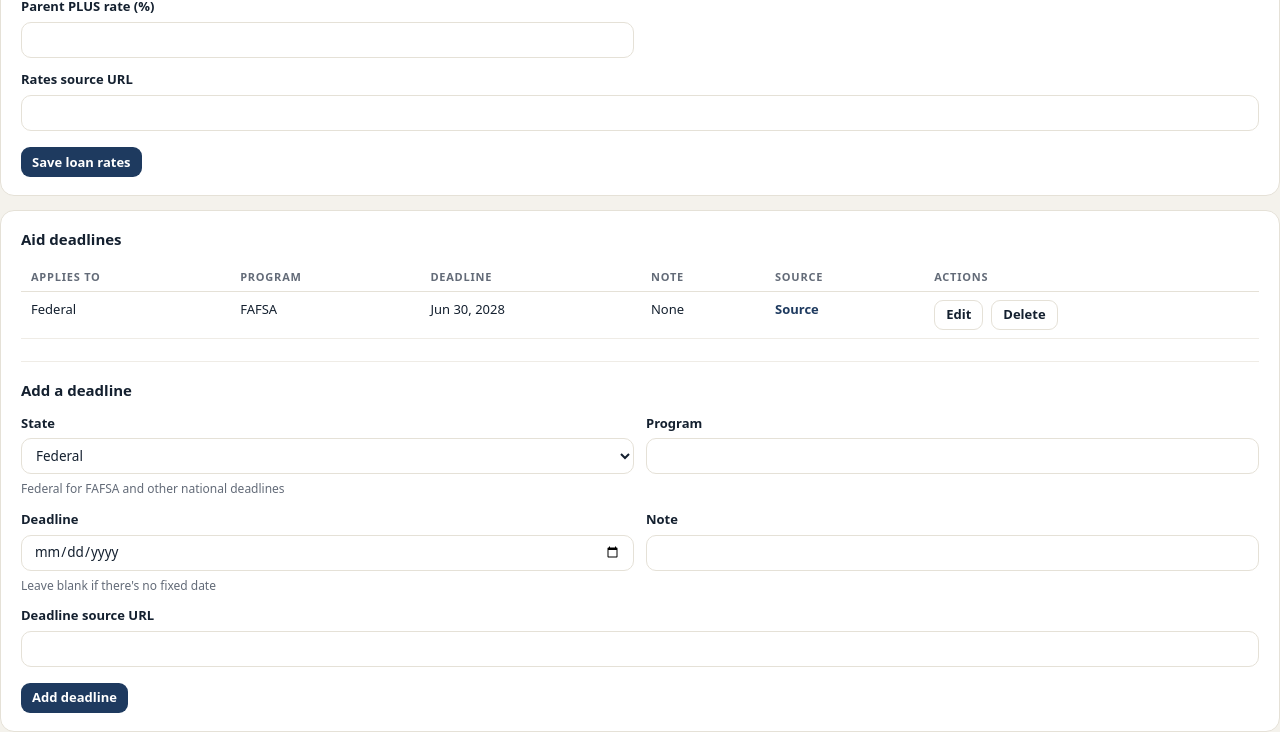
it: AidRulesEditor (R2P-1) › adds a state deadline, then deletes it
The image size is (1280, 732).
(page scrolled)
Click the button "Add deadline" at (74, 698), box left=21, top=683, right=128, bottom=713
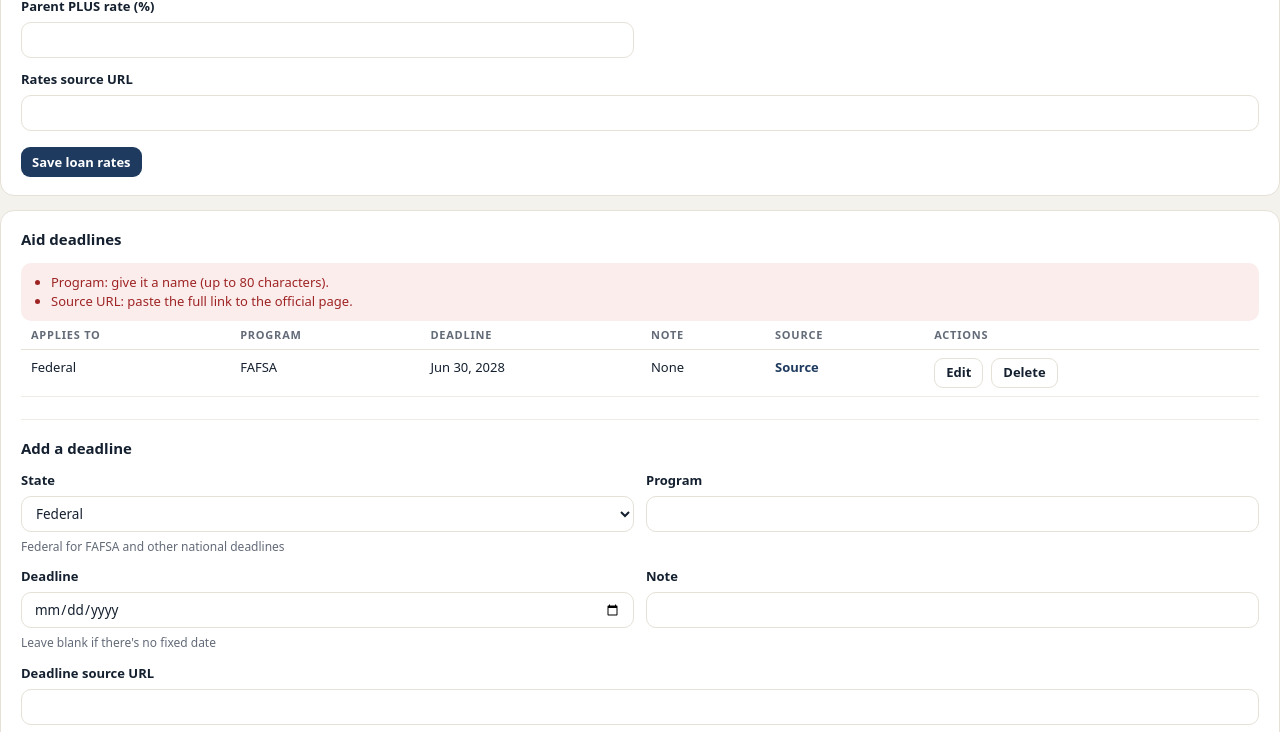
Now the message shows "Program: give it a name (up to 80 characters).", box left=51, top=273, right=329, bottom=291
Select "Texas (TX)" in the dropdown labelled "State" at (328, 514), box left=21, top=496, right=634, bottom=532
Type " TEXAS Grant priority " into the field labelled "Program" at (952, 514), box left=646, top=496, right=1259, bottom=532
Type "2027-01-15" into the date field labelled "Deadline" at (328, 610), box left=21, top=592, right=634, bottom=628
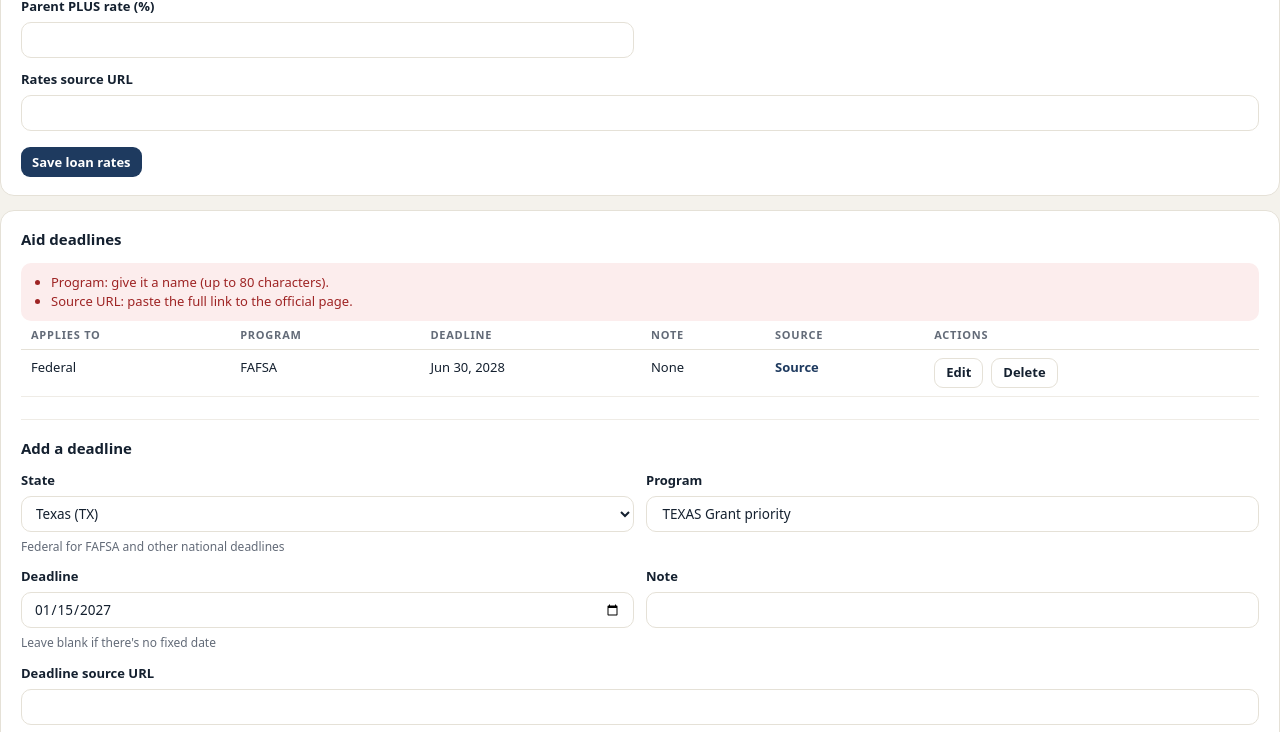
Type "Check with the school." into the field labelled "Note" at (952, 610), box left=646, top=592, right=1259, bottom=628
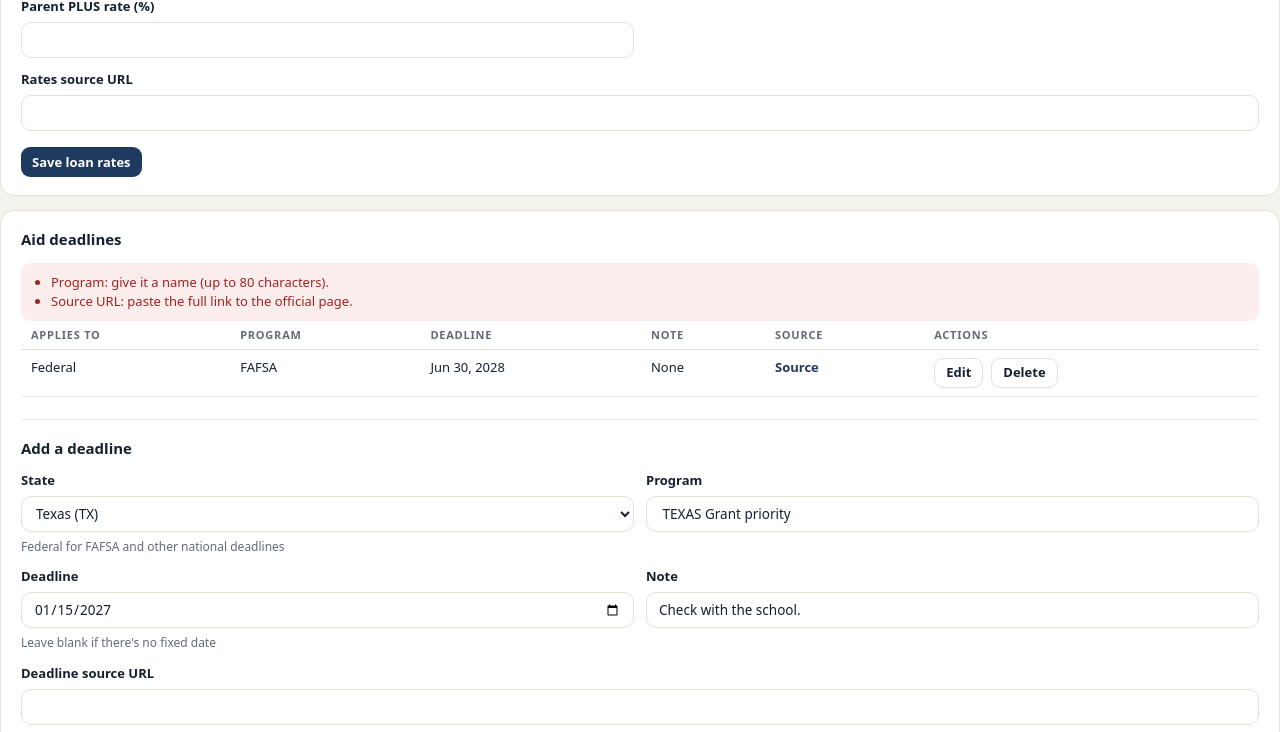
Type "https://studentaid.gov/apply-for-aid/fafsa/fafsa-deadlines" into the field labelled "Deadline source URL" at (640, 707), box left=21, top=689, right=1259, bottom=725
(page scrolled)
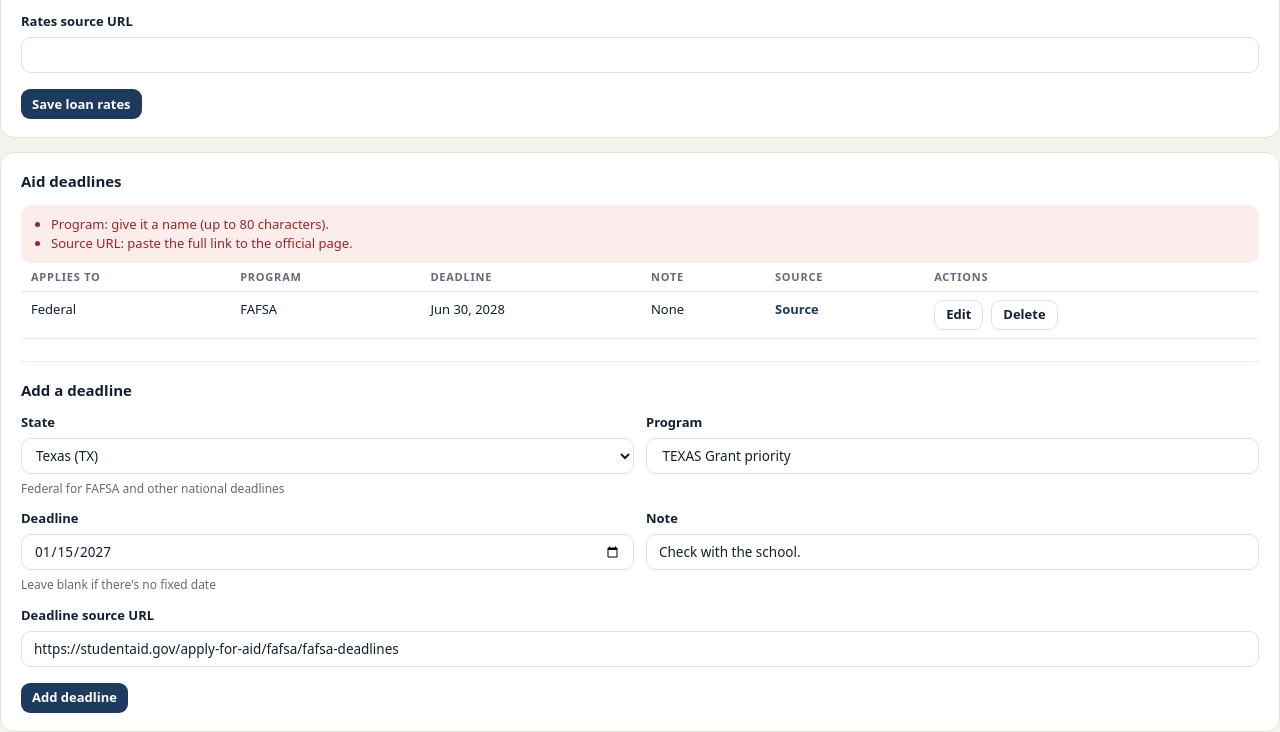
Click the button "Add deadline" at (74, 698), box left=21, top=683, right=128, bottom=713
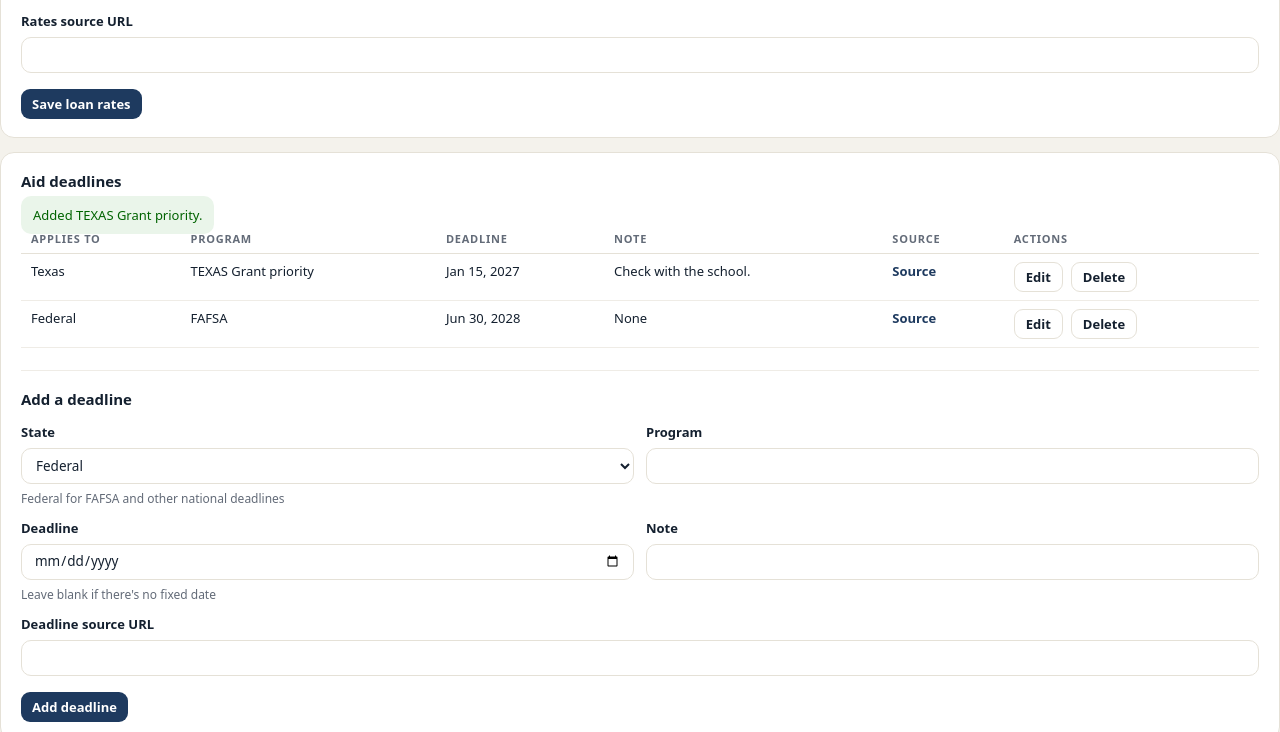
Now the text "Added TEXAS Grant priority." is shown, box left=21, top=196, right=214, bottom=234
Now the row that starts with "Texas" is shown, box left=31, top=262, right=65, bottom=280
Now the row that starts with "Texas" shows "Jan 15, 2027", box left=446, top=262, right=520, bottom=280
Click the button with aria-label "Delete TEXAS Grant priority (Texas)" at (1104, 277), box left=1071, top=262, right=1137, bottom=292
(page scrolled)
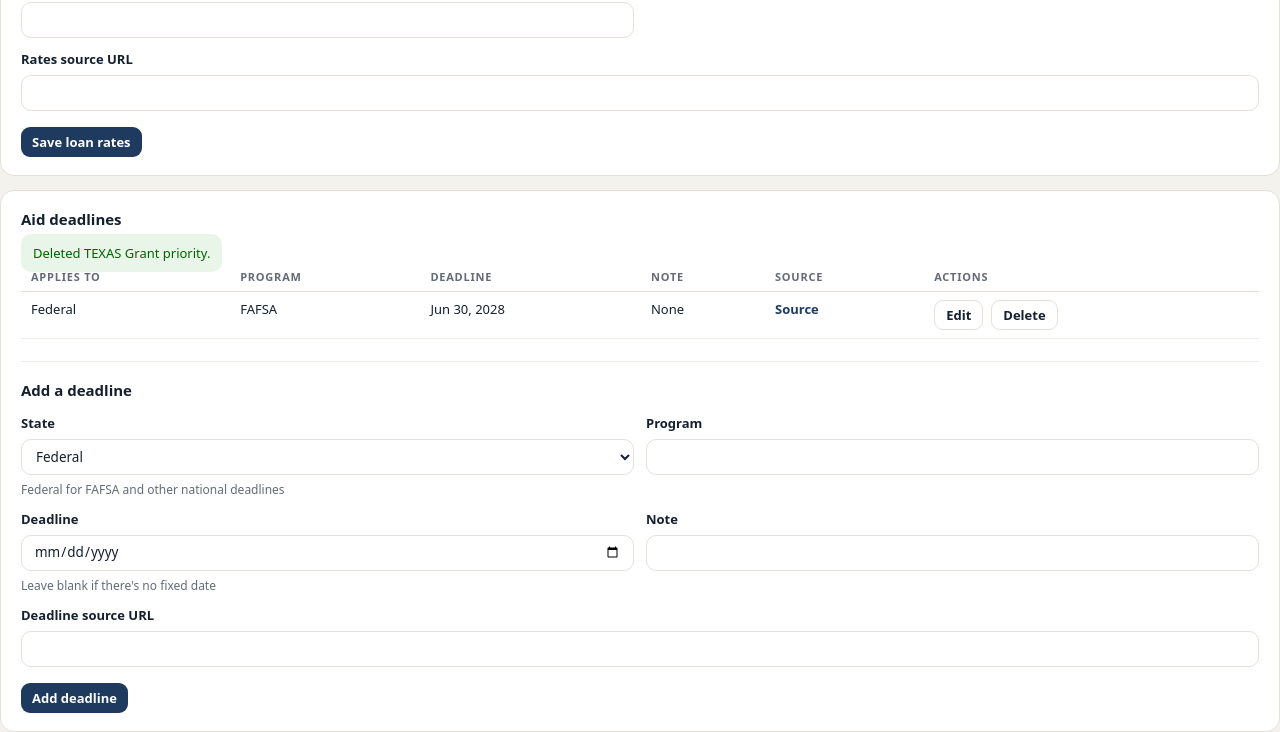
Expected: the text "FAFSA" is shown, left=230, top=292, right=420, bottom=339
Now the text "Deleted TEXAS Grant priority." is shown, box left=21, top=234, right=222, bottom=272
